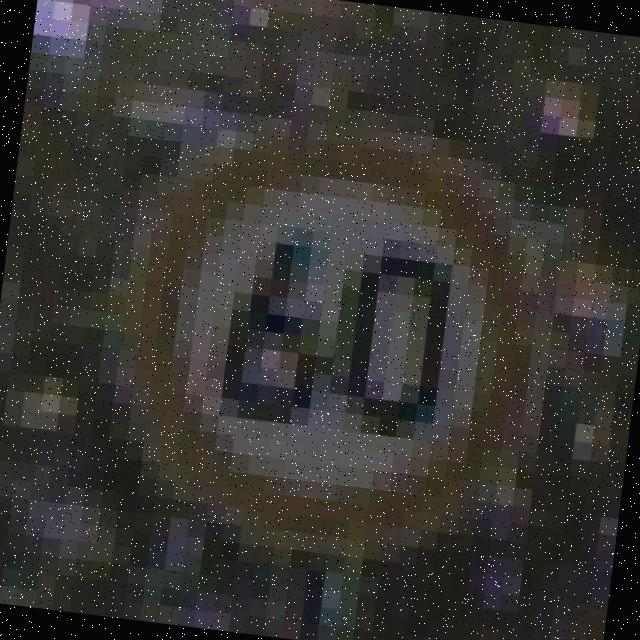Ograniczenie predkosci do 60: (111, 112, 556, 557)
